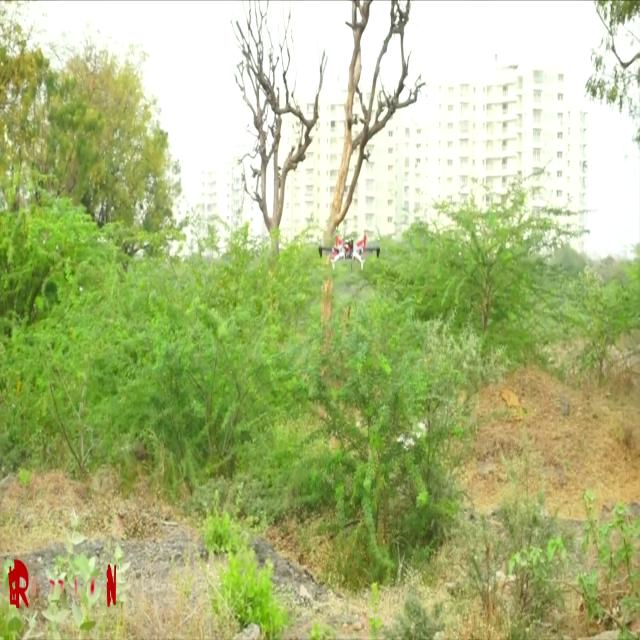drone: (314, 225, 388, 284)
